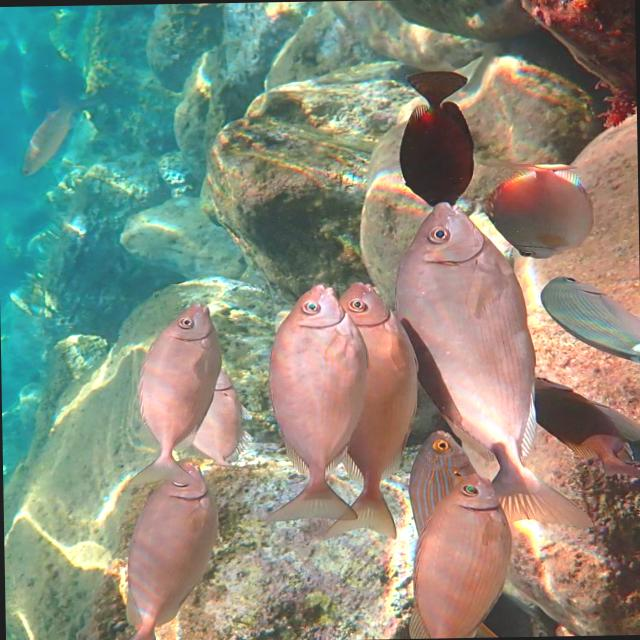Sokar Baligi: (254, 277, 369, 533), (115, 289, 222, 487)
